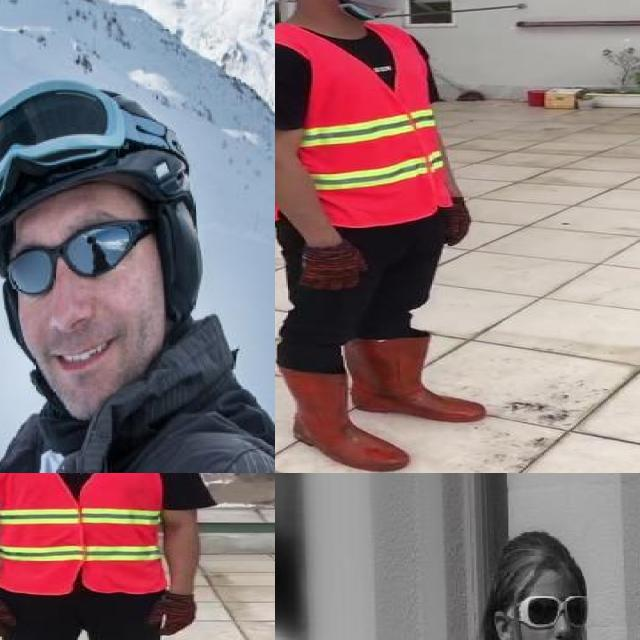boots: (275, 364, 409, 473), (345, 335, 489, 421)
face_mask: (330, 0, 424, 21)
face_nomask: (3, 228, 149, 379), (509, 592, 594, 640)
glasses: (0, 78, 132, 224), (0, 211, 172, 300), (504, 594, 588, 631)
hand_glove: (298, 242, 369, 294), (148, 594, 198, 637), (0, 595, 17, 638)
head_helmet: (0, 75, 203, 228)
head_nohelmet: (491, 528, 589, 593)
person: (275, 0, 505, 473), (0, 473, 215, 640), (449, 524, 640, 640)
vest: (275, 22, 451, 225), (0, 473, 174, 595)
